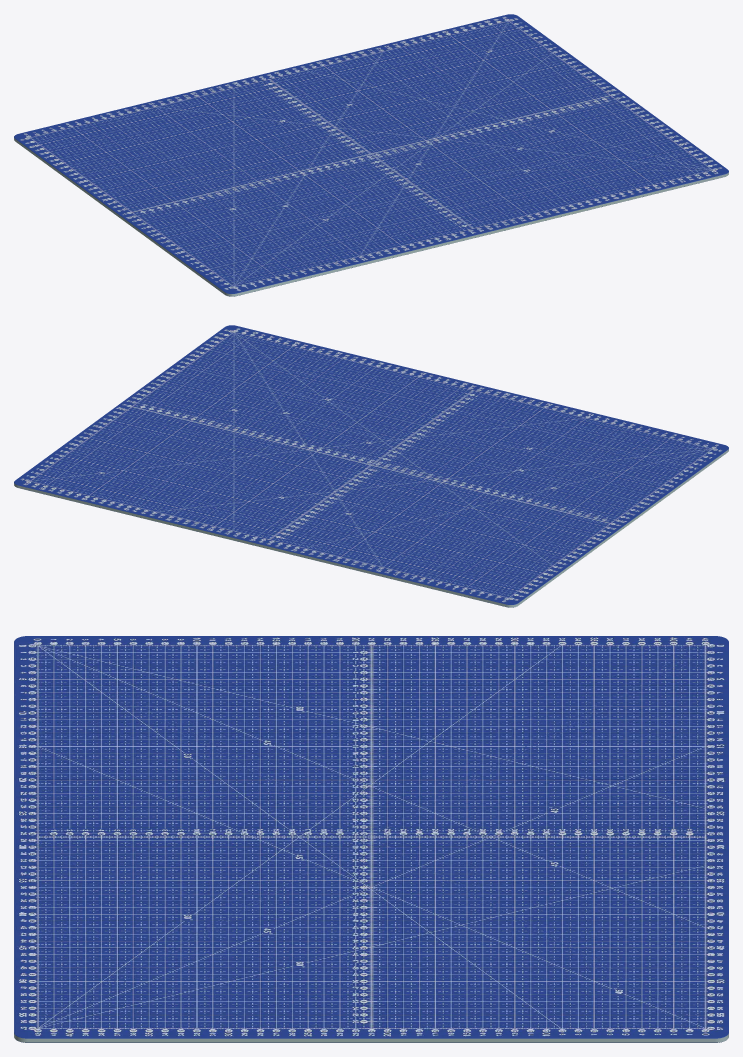
The model's file is cutting-mat.glb.
The picture shows the model from 3 angles, top to bottom: view 1: azimuth 30°, elevation 25°; view 2: azimuth 150°, elevation 25°; view 3: azimuth 270°, elevation 25°; orthographic projection. The views are drawn at different scales.
Visible parts, largest first — view 1: Object_2; view 2: Object_2; view 3: Object_2.
Part boxes in pixels (box(x1,y1,x2,y2)): Object_2: box(14, 14, 728, 296); Object_2: box(14, 325, 728, 607); Object_2: box(14, 636, 728, 1042).
Size of the model in its own units: 0.45 by 0.00253 by 0.3379.
1 material, 1 textured.
